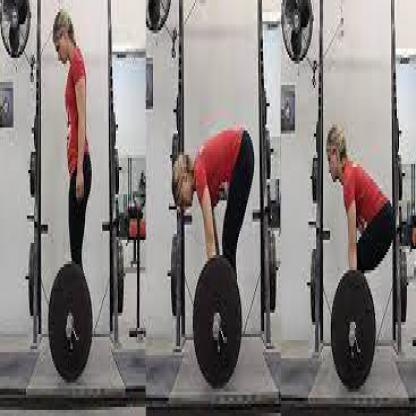Barbell: (189, 249, 244, 392), (44, 256, 96, 388), (327, 266, 378, 396)
